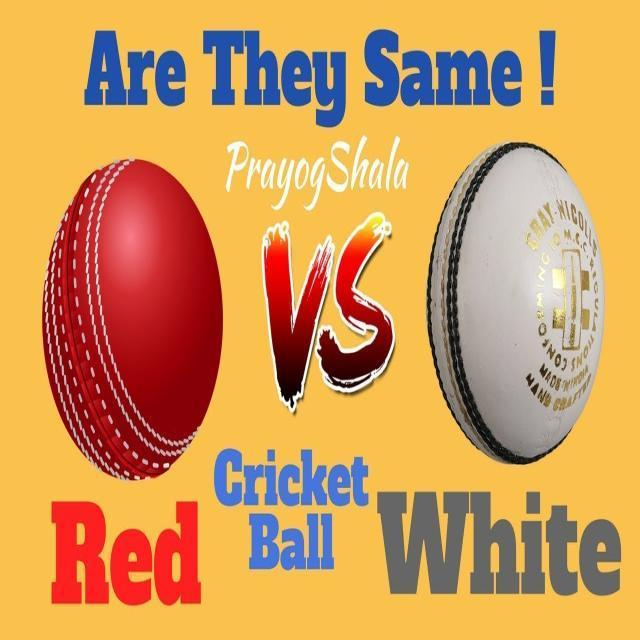cricket ball: (42, 156, 224, 484), (426, 137, 605, 465)
